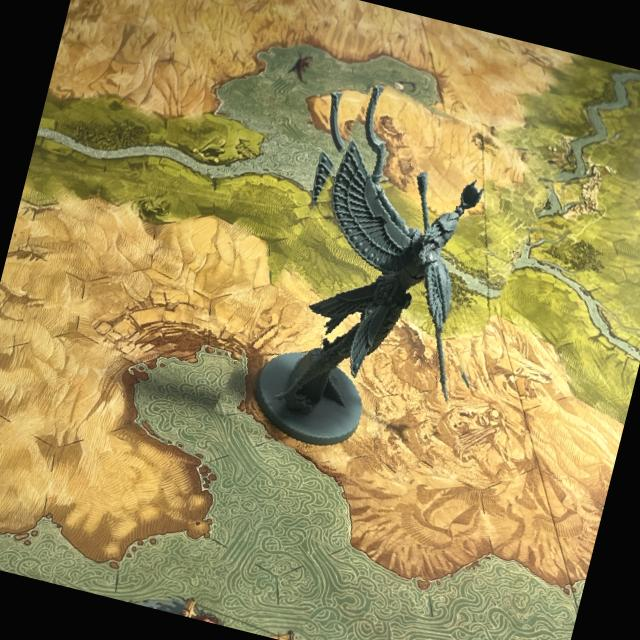isis: (222, 73, 552, 507)
